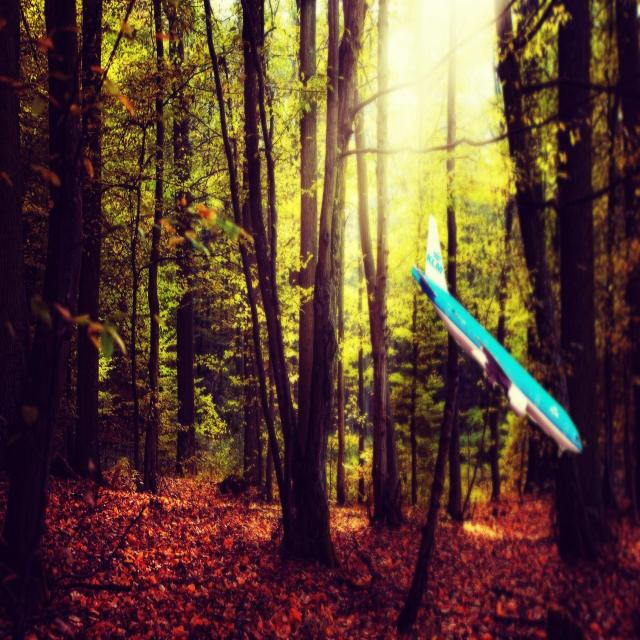airplane: (410, 213, 582, 458)
